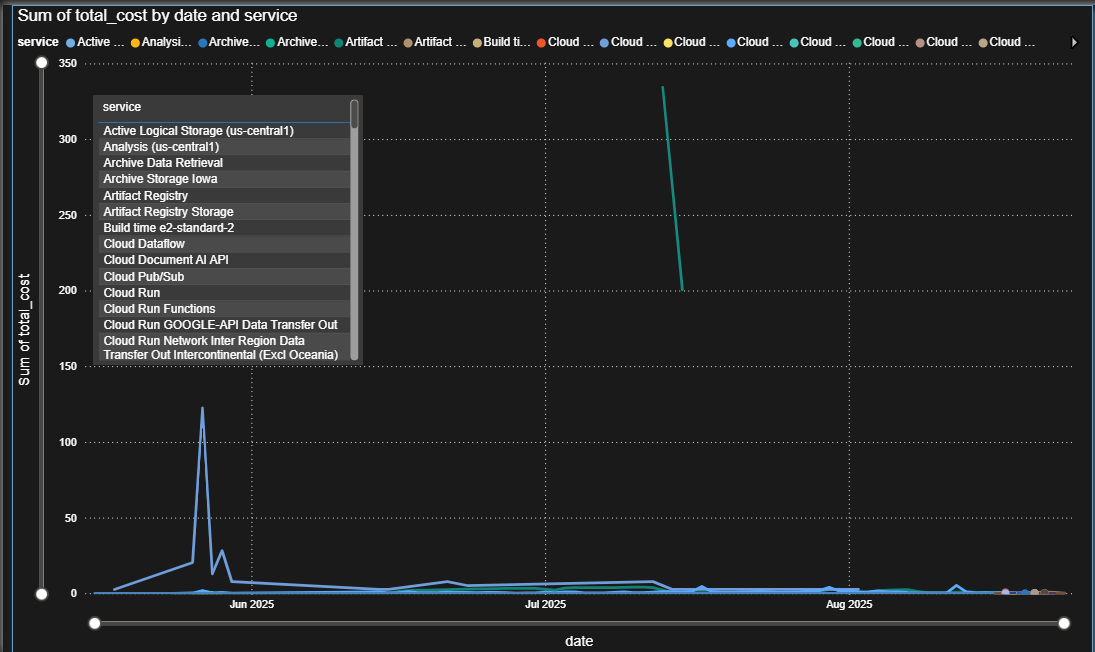

The page's visual inventory and layout, read from the dashboard file:
{"tool":"powerbi","page":{"name":"Page 4","canvas":[1280,720],"ordinal":3},"visuals":[{"type":"lineChart","fields":{"Y":["Sum(total_costs.total_cost)"],"Category":["total_costs.date"],"Series":["total_costs.service"]},"box":[10,0,1201.1,720],"z":0},{"type":"tableEx","fields":{"Values":["total_costs.service"]},"box":[100,100,300,300],"z":1000}]}

Visuals, with their boxes on the page's 1280x720 design canvas (x1, y1, x2, y2). These are canvas units, not pixel positions in the 1095x652 screenshot, which may show the page scaled, cropped or inside an application window:
lineChart - Sum(total_costs.total_cost) x total_costs.date: 10,0,1211,720
tableEx - total_costs.service: 100,100,400,400
